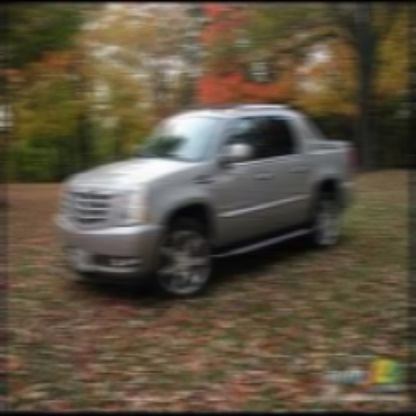Vehicle: (27, 84, 381, 334)
